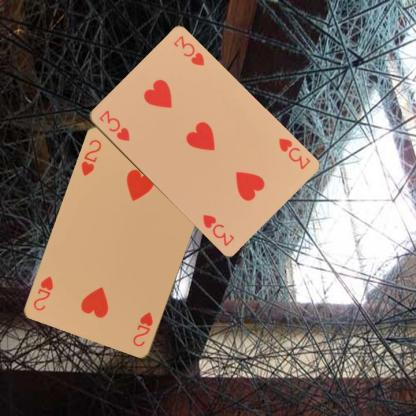2h: (78, 137, 103, 178), (130, 310, 155, 348)
3h: (276, 135, 312, 171), (96, 107, 131, 142)
